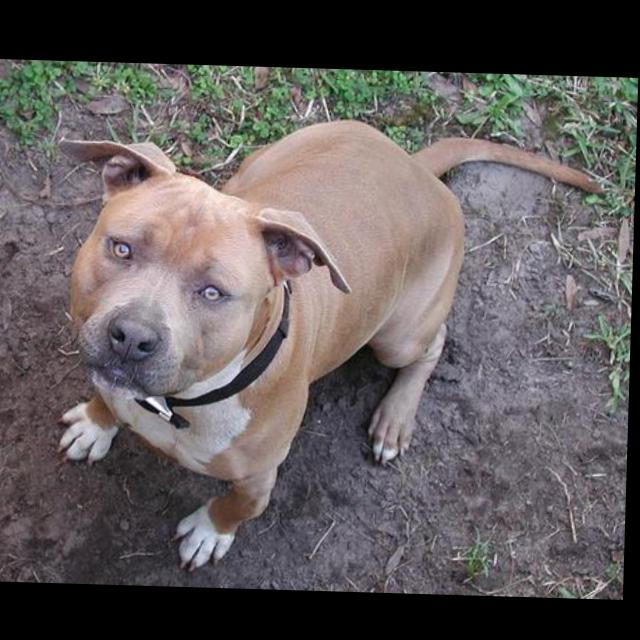amstaff: (52, 109, 614, 581)
